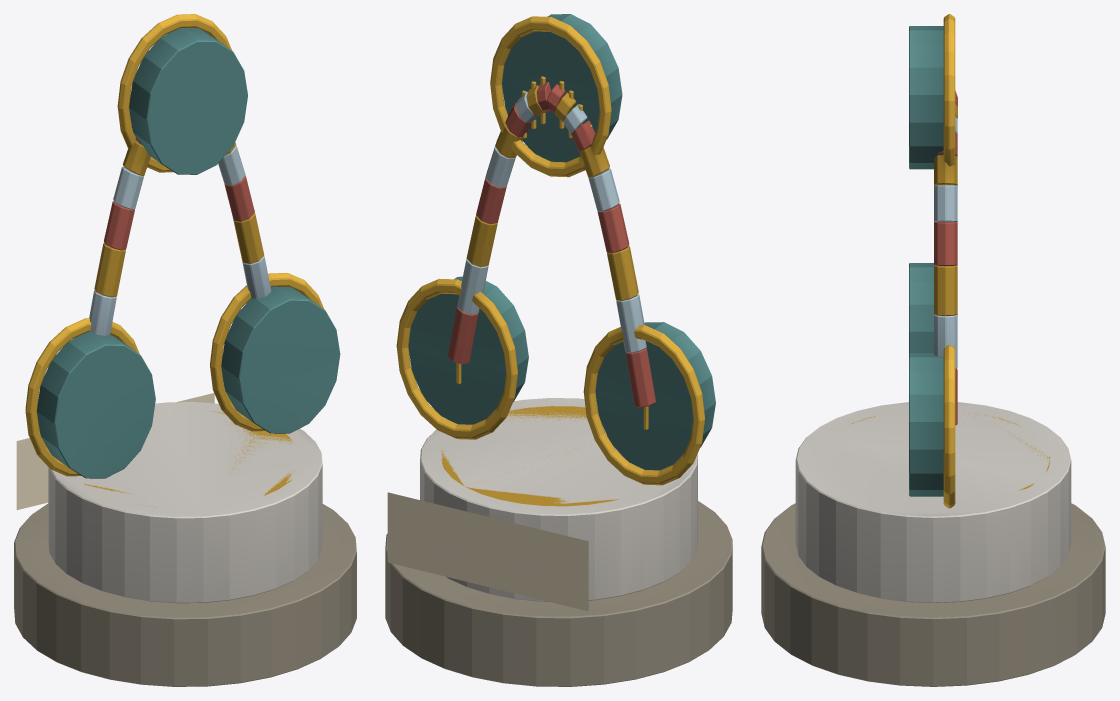
The model's file is trophy_bridges.glb.
3 views of the same model, side by side, from view 1: azimuth 30°, elevation 25°; view 2: azimuth 150°, elevation 25°; view 3: azimuth 270°, elevation 25° (orthographic).
Visible parts, largest first — view 1: common_pedestal, symbol, trophy_plate; view 2: common_pedestal, symbol, trophy_plate; view 3: common_pedestal, symbol.
Boxes of the visible parts, bbox=[...] form: common_pedestal: bbox=[14, 402, 356, 686]; symbol: bbox=[25, 14, 340, 478]; trophy_plate: bbox=[16, 393, 214, 509]; common_pedestal: bbox=[385, 398, 732, 686]; symbol: bbox=[396, 14, 715, 485]; trophy_plate: bbox=[387, 492, 588, 611]; common_pedestal: bbox=[761, 402, 1105, 686]; symbol: bbox=[909, 14, 957, 508].
Bounding box in the file's own units: 0.9176 × 1.72 × 0.9.
